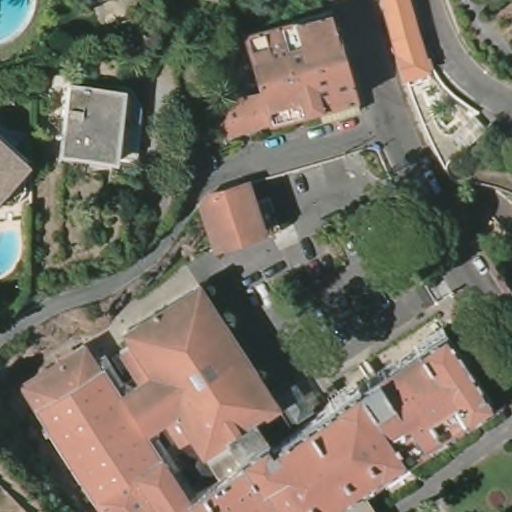pool: (1, 1, 37, 50), (1, 220, 27, 280)
